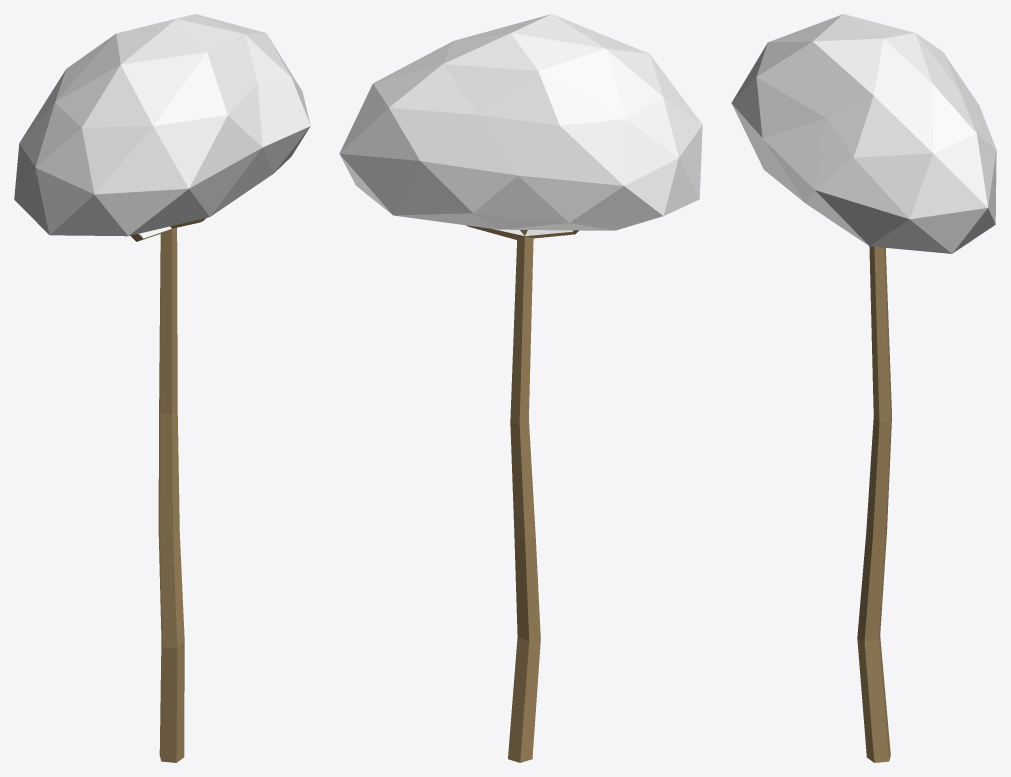
File: Acacia_Tree_m_Snow_05_LOD.fbx
3 views of the same model, side by side, from view 1: azimuth 30°, elevation 25°; view 2: azimuth 150°, elevation 25°; view 3: azimuth 270°, elevation 25° (orthographic).
Visible parts, largest first — view 1: Acacia_Tree_m_Snow_05_LOD0; view 2: Acacia_Tree_m_Snow_05_LOD0; view 3: Acacia_Tree_m_Snow_05_LOD0.
Boxes of the visible parts, x1,y1,x2,y2 form: Acacia_Tree_m_Snow_05_LOD0: (14,14,310,762); Acacia_Tree_m_Snow_05_LOD0: (339,14,702,762); Acacia_Tree_m_Snow_05_LOD0: (731,14,996,762).
Size of what is drawn, in the model's own units: 378 by 889 by 296.
